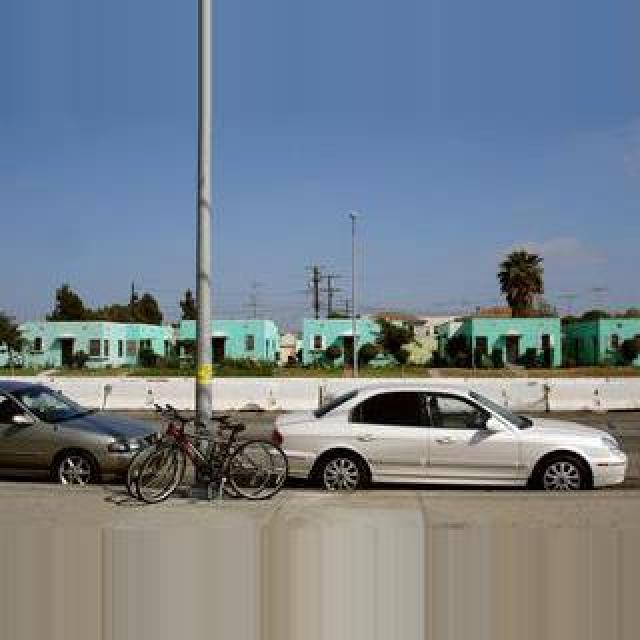Bus-Bike: (272, 386, 626, 494), (0, 378, 160, 486)
Person: (127, 400, 287, 504)
